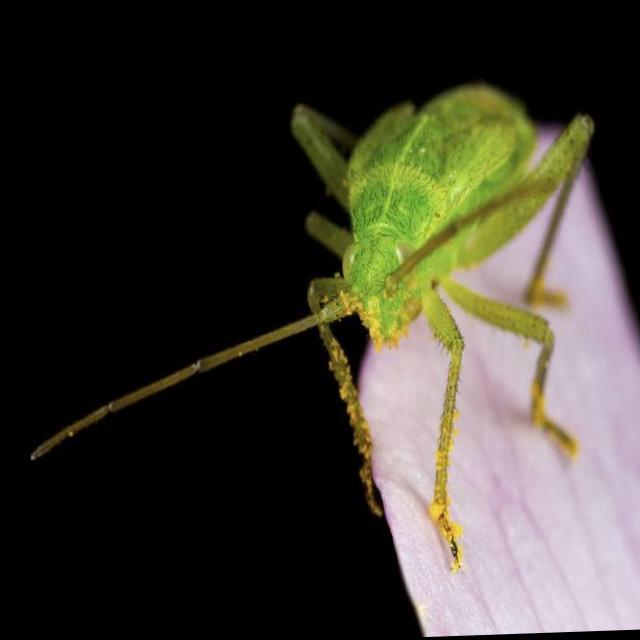aphid: (37, 44, 608, 576)
